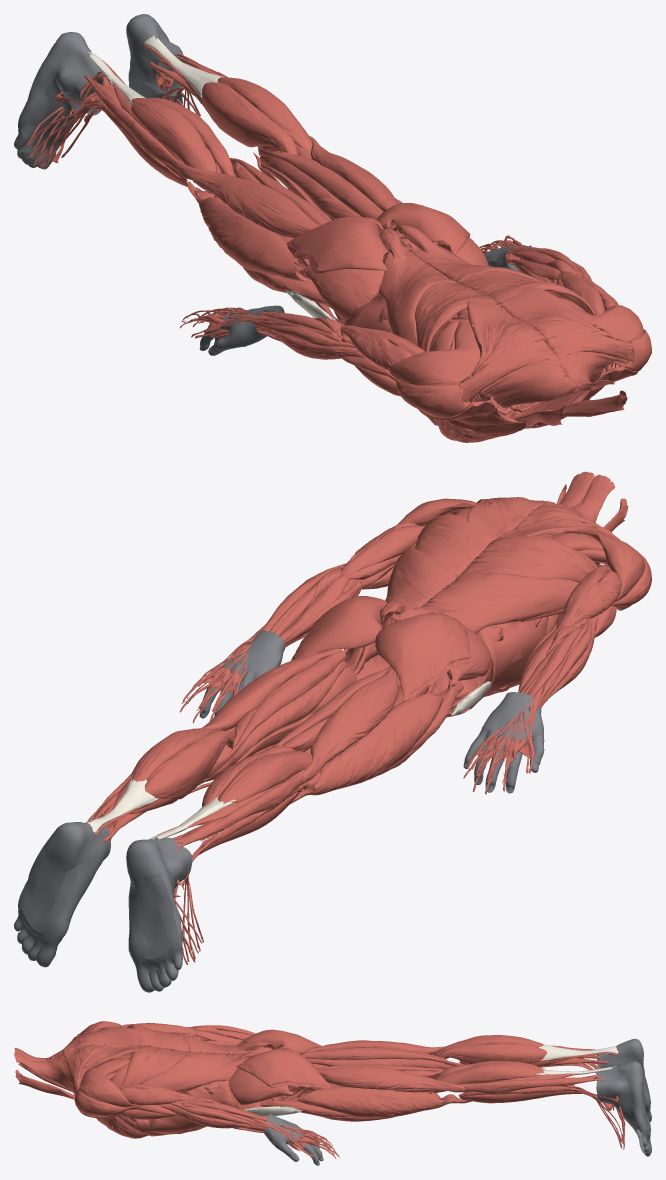
Rendered from anatomy-v5.glb.
The picture shows the model from 3 angles, top to bottom: view 1: azimuth 30°, elevation 25°; view 2: azimuth 150°, elevation 25°; view 3: azimuth 270°, elevation 25°; orthographic projection. The views are drawn at different scales.
Parts seen in each view (by area): view 1: right latissimus dorsi, right gluteus maximus, right vastus lateralis, long head of right biceps femoris, left latissimus dorsi, medial head of left gastrocnemius, descending part of right trapezius, ascending part of left trapezius, lateral head of right gastrocnemius, ascending part of right trapezius, spinal part of right deltoid, right gluteus medius (+36 smaller); view 2: right latissimus dorsi, left latissimus dorsi, right gluteus maximus, right vastus lateralis, long head of right biceps femoris, left gluteus maximus, medial head of left gastrocnemius, right external oblique, long head of left biceps femoris, lateral head of right gastrocnemius, left semimembranosus, left semitendinosus (+32 smaller); view 3: left latissimus dorsi, left vastus lateralis, left gluteus maximus, long head of left biceps femoris, medial head of right gastrocnemius, left external oblique, right latissimus dorsi, lateral head of left gastrocnemius, right semitendinosus, left gluteus medius, spinal part of left deltoid, ascending part of left trapezius (+47 smaller).
Boxes of the visible parts, x1=… form: right latissimus dorsi: x1=378, y1=244, x2=497, y2=351; right gluteus maximus: x1=286, y1=215, x2=389, y2=273; right vastus lateralis: x1=187, y1=182, x2=312, y2=282; long head of right biceps femoris: x1=176, y1=164, x2=320, y2=238; left latissimus dorsi: x1=400, y1=237, x2=594, y2=314; medial head of left gastrocnemius: x1=202, y1=82, x2=297, y2=155; descending part of right trapezius: x1=479, y1=358, x2=594, y2=407; ascending part of left trapezius: x1=473, y1=286, x2=615, y2=341; lateral head of right gastrocnemius: x1=131, y1=98, x2=216, y2=193; ascending part of right trapezius: x1=467, y1=290, x2=545, y2=376; spinal part of right deltoid: x1=389, y1=348, x2=481, y2=385; right gluteus medius: x1=300, y1=266, x2=384, y2=319; right latissimus dorsi: x1=398, y1=535, x2=594, y2=632; left latissimus dorsi: x1=385, y1=514, x2=497, y2=619; right gluteus maximus: x1=375, y1=614, x2=470, y2=701; right vastus lateralis: x1=290, y1=694, x2=444, y2=803; long head of right biceps femoris: x1=302, y1=667, x2=398, y2=784; left gluteus maximus: x1=291, y1=596, x2=387, y2=660; medial head of left gastrocnemius: x1=145, y1=730, x2=234, y2=799; right external oblique: x1=469, y1=617, x2=556, y2=709; long head of left biceps femoris: x1=201, y1=649, x2=341, y2=730; lateral head of right gastrocnemius: x1=218, y1=751, x2=312, y2=803; left semimembranosus: x1=207, y1=660, x2=347, y2=778; left semitendinosus: x1=204, y1=650, x2=345, y2=779; left latissimus dorsi: x1=121, y1=1045, x2=248, y2=1092; left vastus lateralis: x1=292, y1=1087, x2=470, y2=1117; left gluteus maximus: x1=236, y1=1048, x2=331, y2=1091; long head of left biceps femoris: x1=316, y1=1066, x2=465, y2=1092; medial head of right gastrocnemius: x1=438, y1=1043, x2=547, y2=1064; left external oblique: x1=131, y1=1080, x2=239, y2=1136; right latissimus dorsi: x1=126, y1=1024, x2=252, y2=1053; lateral head of left gastrocnemius: x1=433, y1=1062, x2=544, y2=1093; right semitendinosus: x1=301, y1=1048, x2=464, y2=1066; left gluteus medius: x1=229, y1=1068, x2=291, y2=1104; spinal part of left deltoid: x1=79, y1=1067, x2=136, y2=1107; ascending part of left trapezius: x1=77, y1=1044, x2=164, y2=1086.
Size of the model in its own units: 639 by 284 by 1647.
